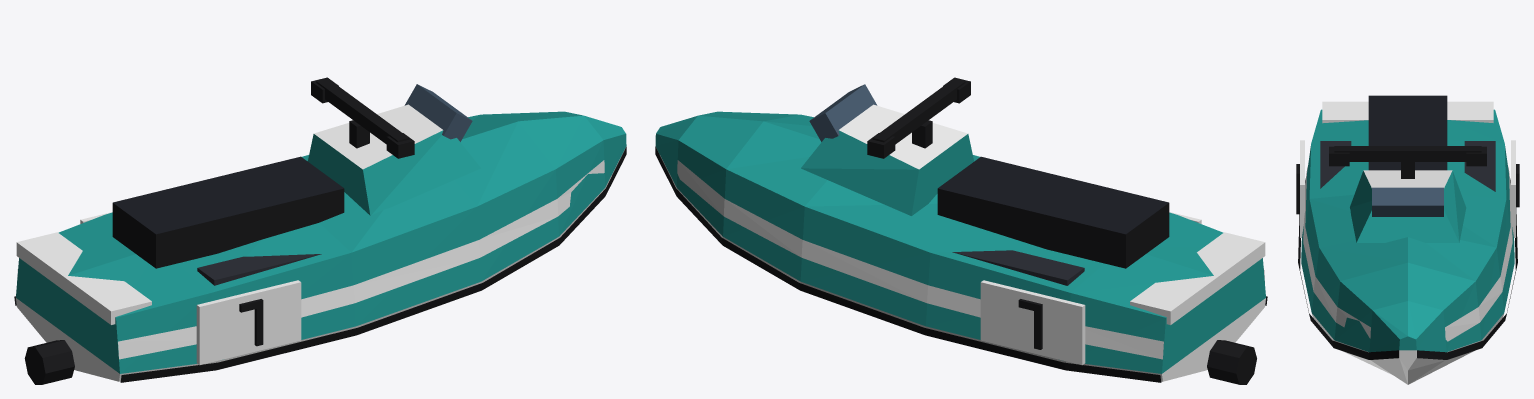
File: jetski_turquesa_body.obj
3 renders of one model, left to right at view 1: azimuth 30°, elevation 25°; view 2: azimuth 150°, elevation 25°; view 3: azimuth 270°, elevation 25°, orthographic. The views are drawn at different scales.
Visible parts, largest first — view 1: jetski_turquesa_body; view 2: jetski_turquesa_body; view 3: jetski_turquesa_body.
Boxes of the visible parts, x1,y1,x2,y2 form: jetski_turquesa_body: (14, 77, 626, 384); jetski_turquesa_body: (655, 77, 1267, 384); jetski_turquesa_body: (1296, 95, 1519, 384).
Size of the model in its own units: 3.58 by 1.85 by 1.3.
